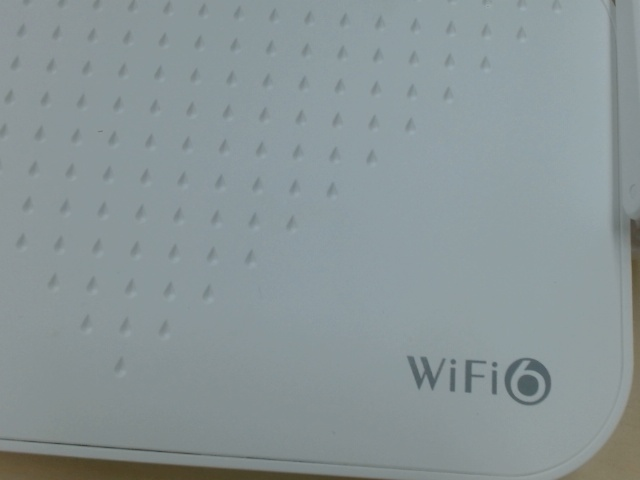AK_ZTEWIFI6: (396, 345, 560, 410)
